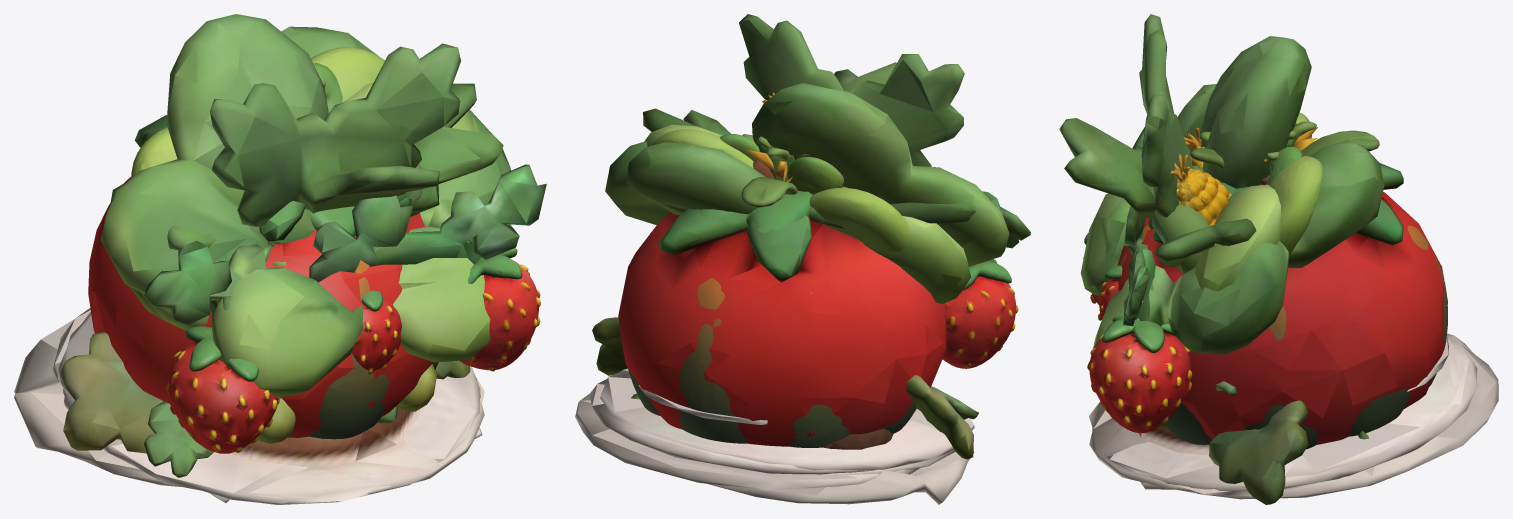
File: crops.glb
3 views of the same model, side by side, from view 1: azimuth 30°, elevation 25°; view 2: azimuth 150°, elevation 25°; view 3: azimuth 270°, elevation 25° (orthographic). The views are drawn at different scales.
Visible parts, largest first — view 1: sprout_3_part, strawberry_3_part (×4), carrot_3_part, tomato_harvest_part, carrot_2_part, sprout_2_part, pumpkin_3_part, pumpkin_harvest_part, sprout_harvest_part, pumpkin_2_part, tomato_2_part, strawberry_2_part (+2 smaller); view 2: tomato_harvest_part, sprout_3_part, carrot_3_part, sprout_2_part, strawberry_3_part (×2), pumpkin_harvest_part, sprout_harvest_part, pumpkin_3_part, carrot_harvest_part, strawberry_harvest_part, corn_3_part, tomato_3_part (+1 smaller); view 3: sprout_3_part, tomato_harvest_part, carrot_3_part, sprout_2_part, strawberry_3_part (×3), pumpkin_3_part, carrot_2_part, corn_3_part, pumpkin_harvest_part, sprout_harvest_part, carrot_harvest_part.
Part boxes in pixels (bbox=[...]): sprout_3_part: bbox=[82, 14, 510, 503]; strawberry_3_part (×4): bbox=[14, 164, 546, 486]; carrot_3_part: bbox=[52, 43, 503, 409]; tomato_harvest_part: bbox=[88, 115, 433, 437]; carrot_2_part: bbox=[63, 164, 484, 504]; sprout_2_part: bbox=[58, 82, 482, 504]; pumpkin_3_part: bbox=[60, 331, 470, 453]; pumpkin_harvest_part: bbox=[309, 260, 438, 439]; sprout_harvest_part: bbox=[131, 47, 384, 177]; pumpkin_2_part: bbox=[144, 401, 213, 477]; tomato_2_part: bbox=[257, 364, 436, 443]; strawberry_2_part: bbox=[210, 244, 265, 310]; tomato_harvest_part: bbox=[618, 155, 946, 446]; sprout_3_part: bbox=[589, 83, 1009, 474]; carrot_3_part: bbox=[575, 14, 975, 489]; sprout_2_part: bbox=[600, 124, 974, 470]; strawberry_3_part (×2): bbox=[707, 191, 1030, 504]; pumpkin_harvest_part: bbox=[628, 159, 916, 447]; sprout_harvest_part: bbox=[652, 129, 909, 257]; pumpkin_3_part: bbox=[592, 317, 973, 459]; carrot_harvest_part: bbox=[719, 134, 844, 194]; strawberry_harvest_part: bbox=[700, 145, 812, 232]; corn_3_part: bbox=[741, 92, 848, 207]; tomato_3_part: bbox=[638, 385, 767, 424]; sprout_3_part: bbox=[1080, 36, 1477, 491]; tomato_harvest_part: bbox=[1117, 139, 1447, 444]; carrot_3_part: bbox=[1059, 14, 1498, 499]; sprout_2_part: bbox=[1092, 184, 1463, 489]; strawberry_3_part (×3): bbox=[1087, 127, 1473, 433]; pumpkin_3_part: bbox=[1209, 400, 1368, 504]; carrot_2_part: bbox=[1089, 204, 1385, 496]; corn_3_part: bbox=[1170, 121, 1379, 225]; pumpkin_harvest_part: bbox=[1119, 175, 1447, 449]; sprout_harvest_part: bbox=[1269, 112, 1323, 254]; carrot_harvest_part: bbox=[1266, 122, 1302, 184].
Bounding box in the file's own units: 0.13 × 0.1211 × 0.13.
Materials: 2 (2 with a texture image).
